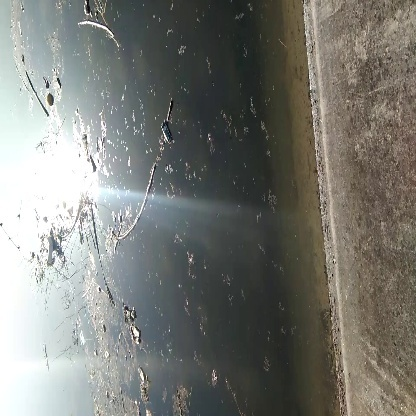branch: (114, 163, 158, 248)
